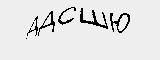Д: (37, 10, 56, 34), (24, 15, 39, 39)
С: (56, 5, 76, 26)
Ш: (78, 7, 109, 30)
Ю: (108, 9, 131, 34)
